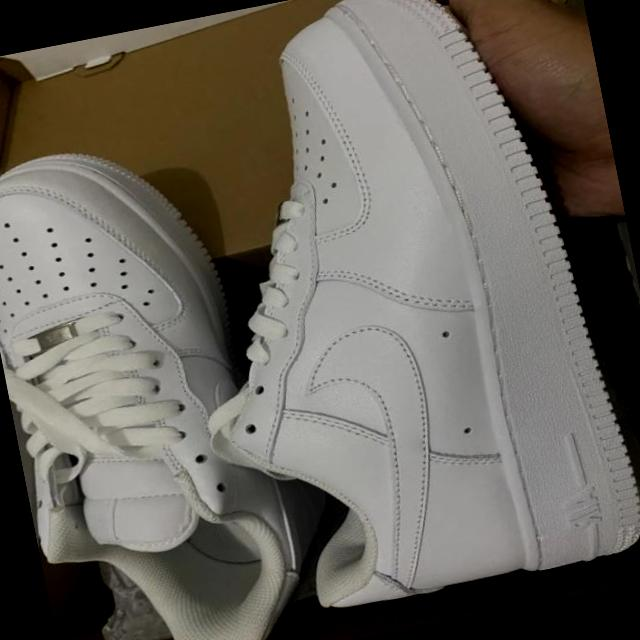nike_original_airforce: (153, 0, 640, 623), (0, 119, 321, 640)
